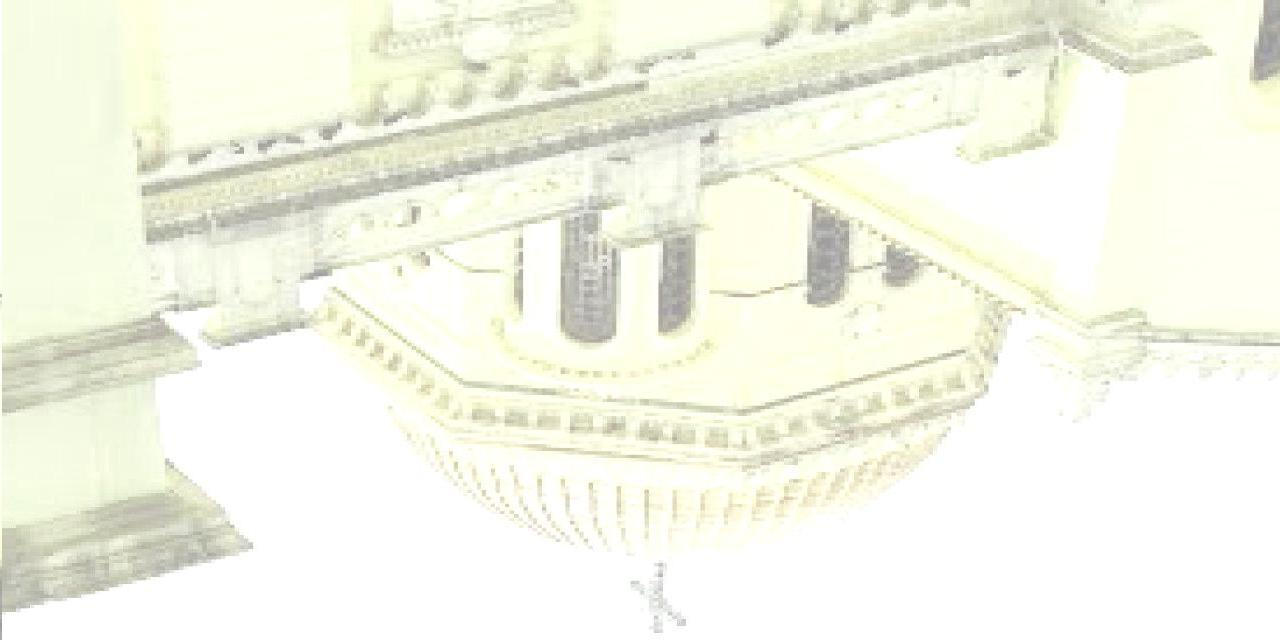Agios Minas: (3, 1, 1280, 640)
